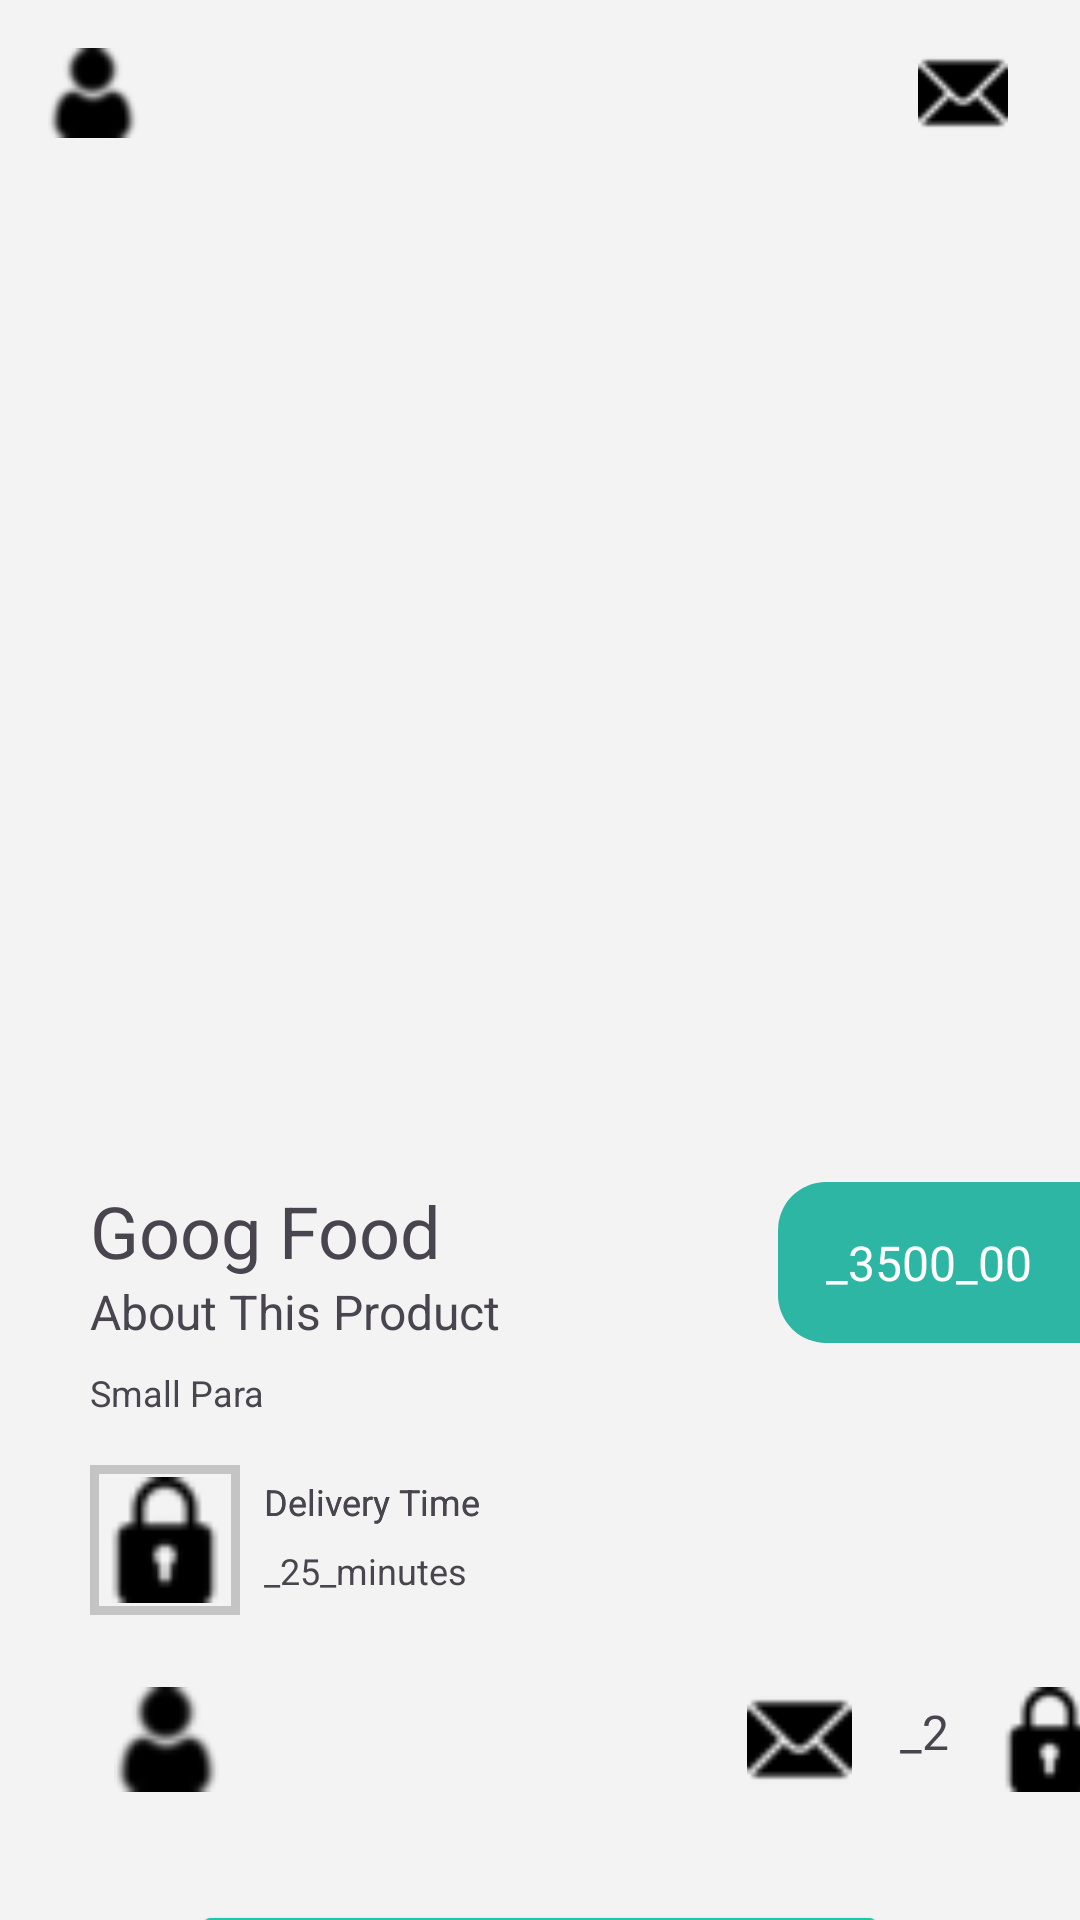

Named icons in this screenshot (1080px×1920px) and their centers, point (x, y):
mail: point (963, 93), point (799, 1739)
user: point (93, 93), point (166, 1739)
